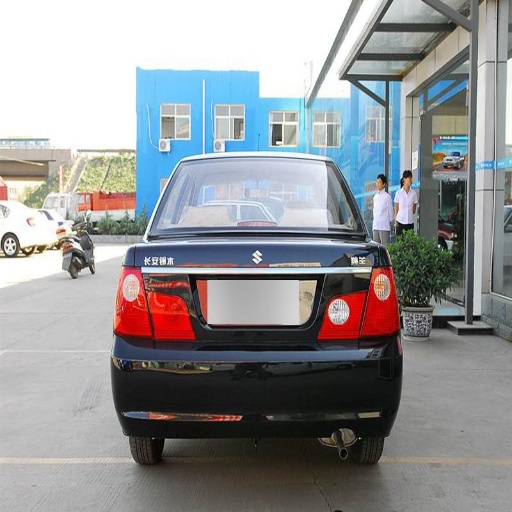back_bumper: (115, 310, 403, 434)
tailgate: (239, 228, 375, 350)
trunk: (142, 230, 302, 373)
